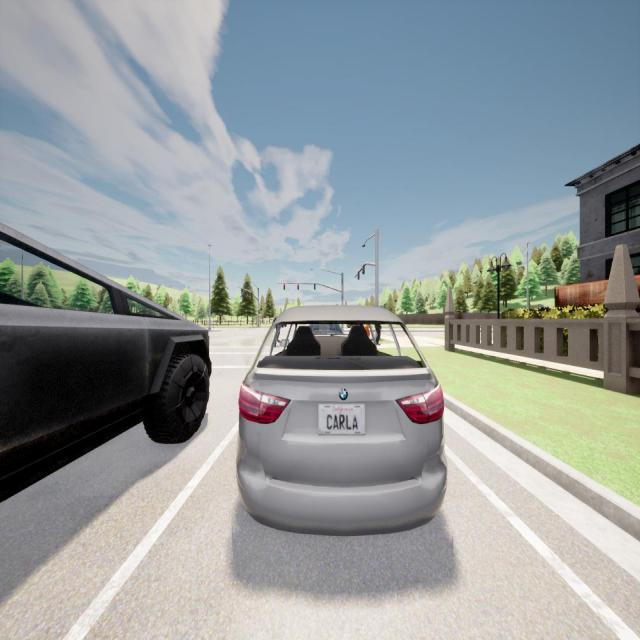Pedestrian: (374, 324, 383, 345), (364, 322, 371, 338)
Vehicle: (0, 223, 210, 500), (236, 306, 446, 533)
traffic_light: (362, 265, 365, 274), (357, 272, 360, 280), (284, 284, 286, 290), (297, 284, 299, 290), (314, 284, 316, 290)
